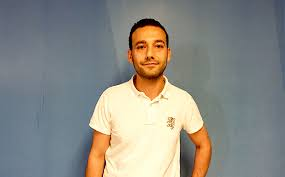middle_eastern_male: (132, 21, 171, 79)
